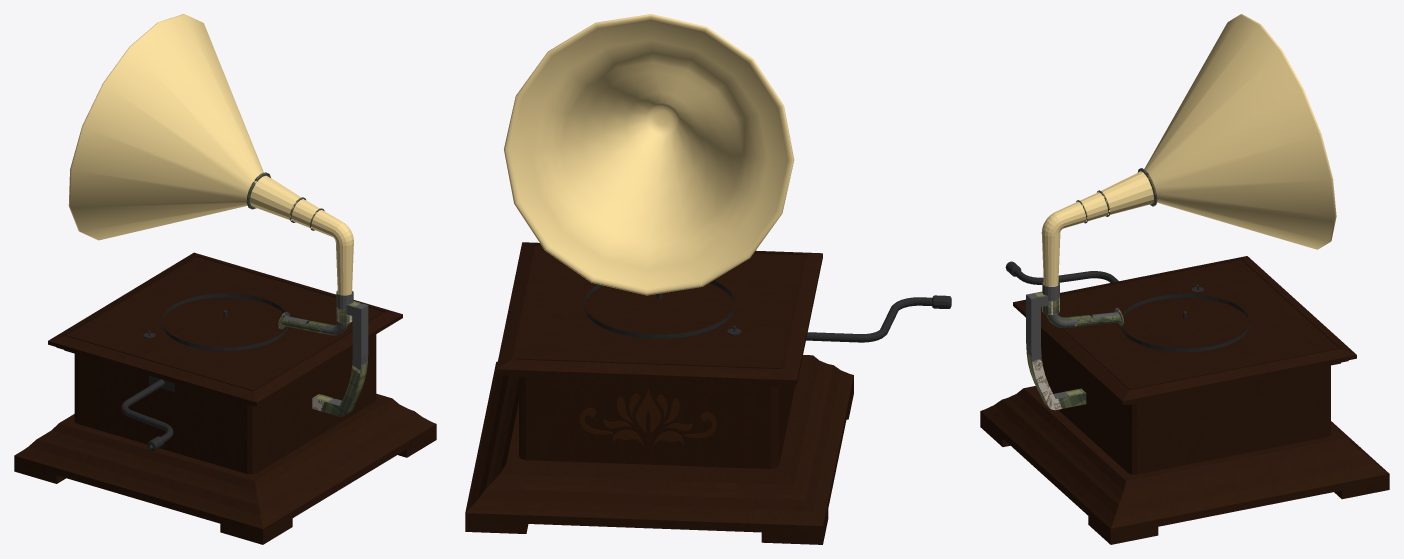
File: Platine.fbx
3 renders of one model, left to right at view 1: azimuth 30°, elevation 25°; view 2: azimuth 150°, elevation 25°; view 3: azimuth 270°, elevation 25°, orthographic. The views are drawn at different scales.
Parts seen in each view (by area): view 1: Platine; view 2: Platine; view 3: Platine.
Boxes of the visible parts, box(x1,y1,x2,y2) form: Platine: box(14, 14, 436, 544); Platine: box(465, 14, 951, 544); Platine: box(980, 14, 1389, 544).
Size of the model in its own units: 37.89 by 42.87 by 37.89.
Materials: 2 (2 with a texture image).
